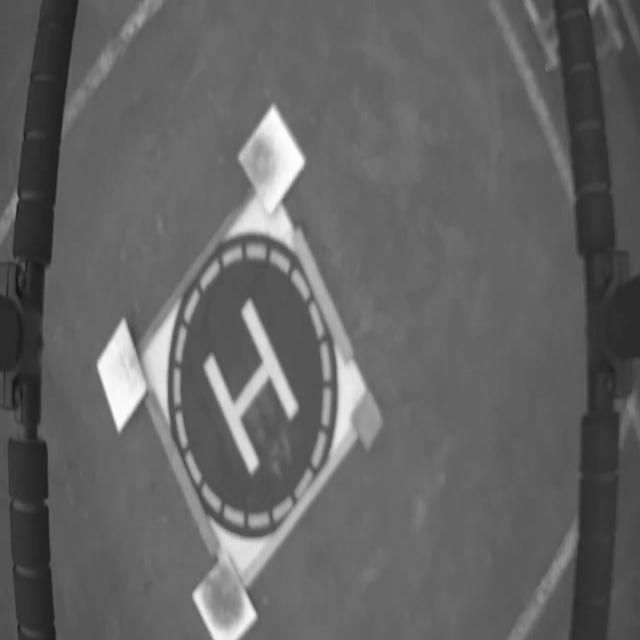Helipad: (202, 298, 300, 474)
